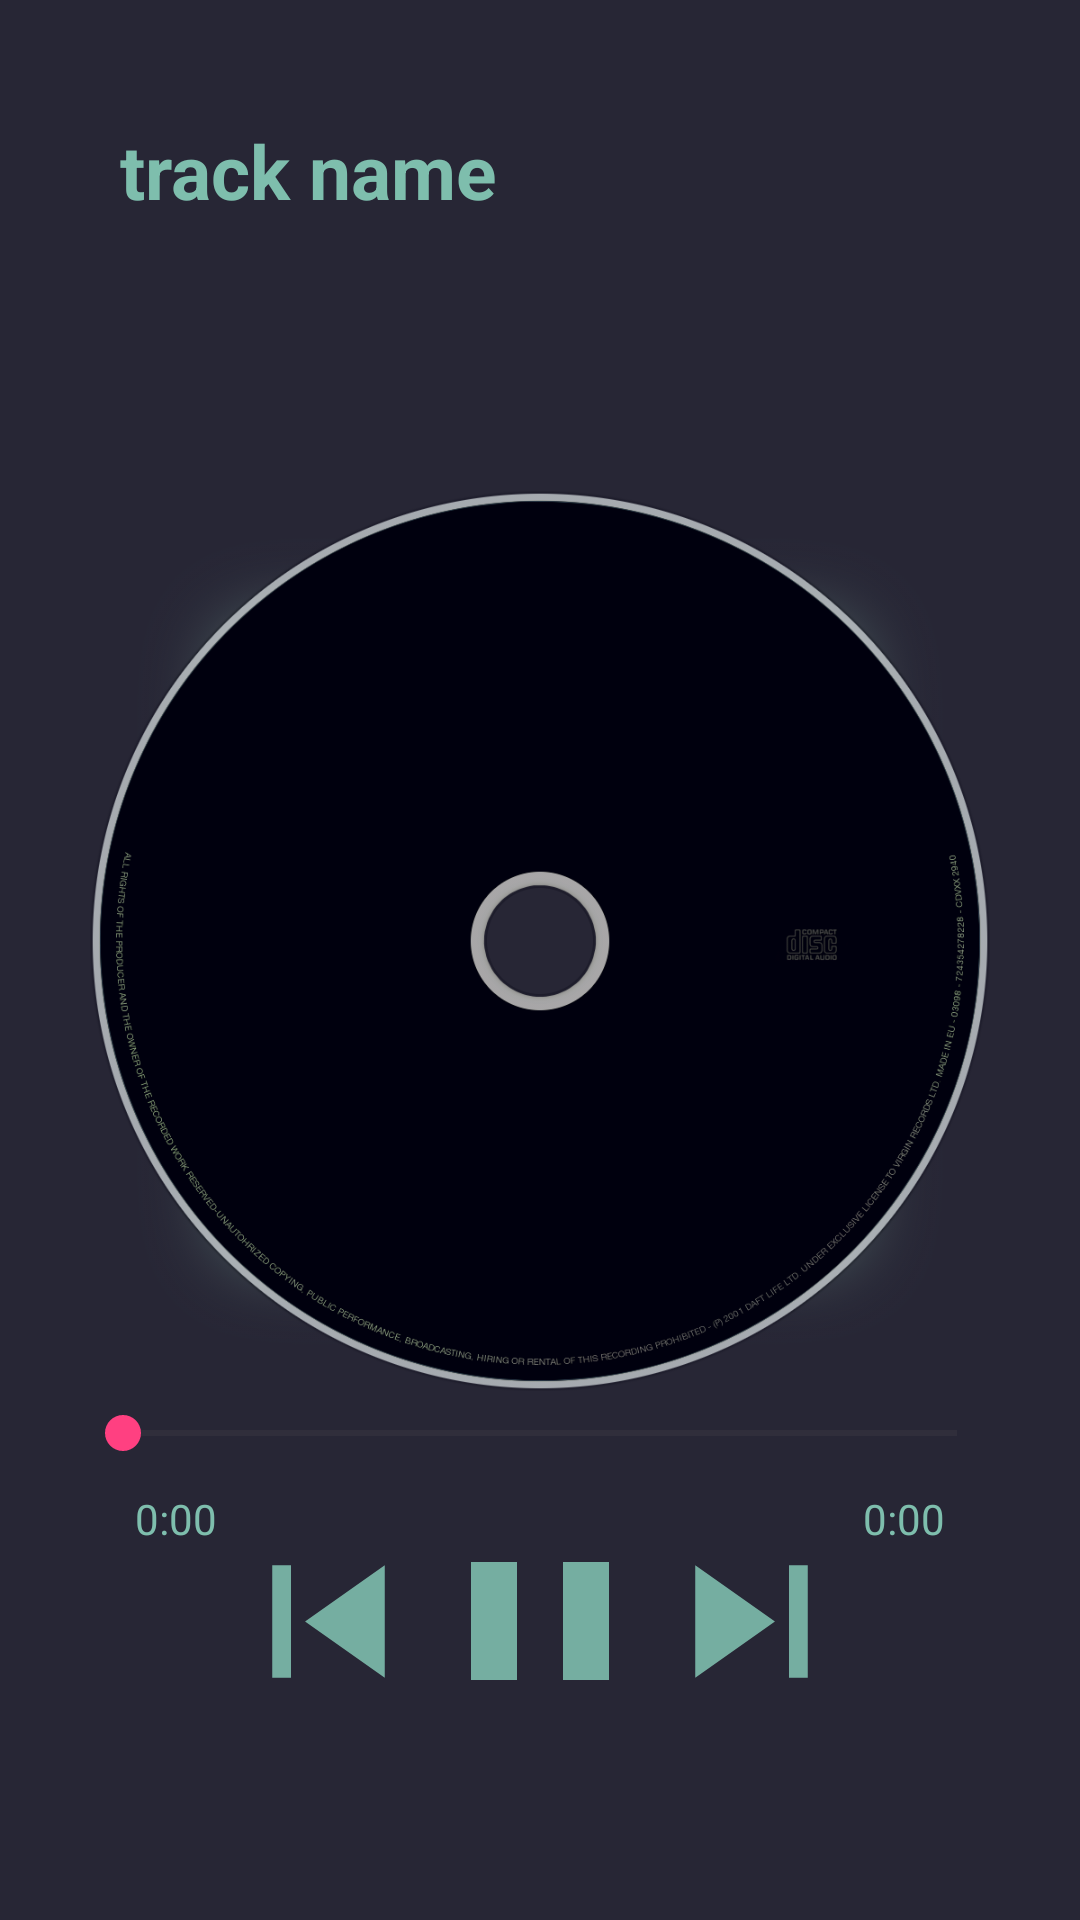

Named icons in this screenshot (1080×1920) and their centers, (x=x, y=y):
pause: (x=540, y=1621)
skip back: (x=328, y=1621)
skip next: (x=751, y=1621)
